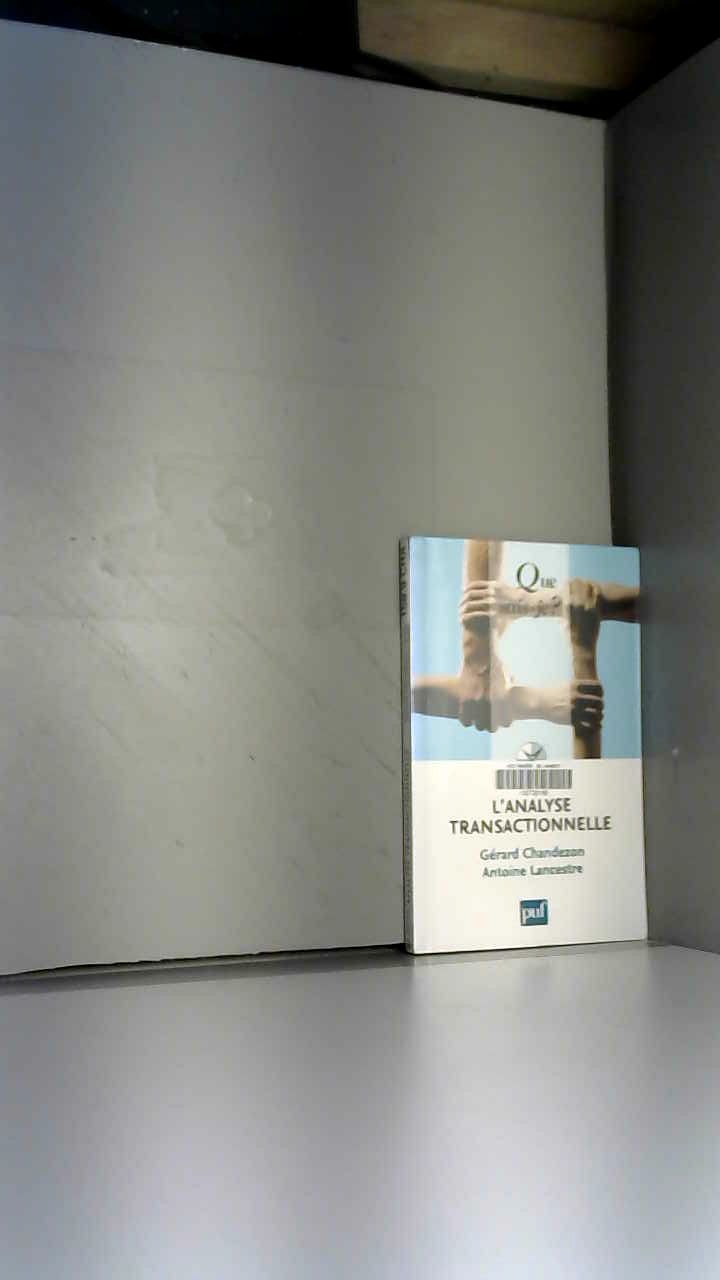book: (356, 495, 692, 1003)
